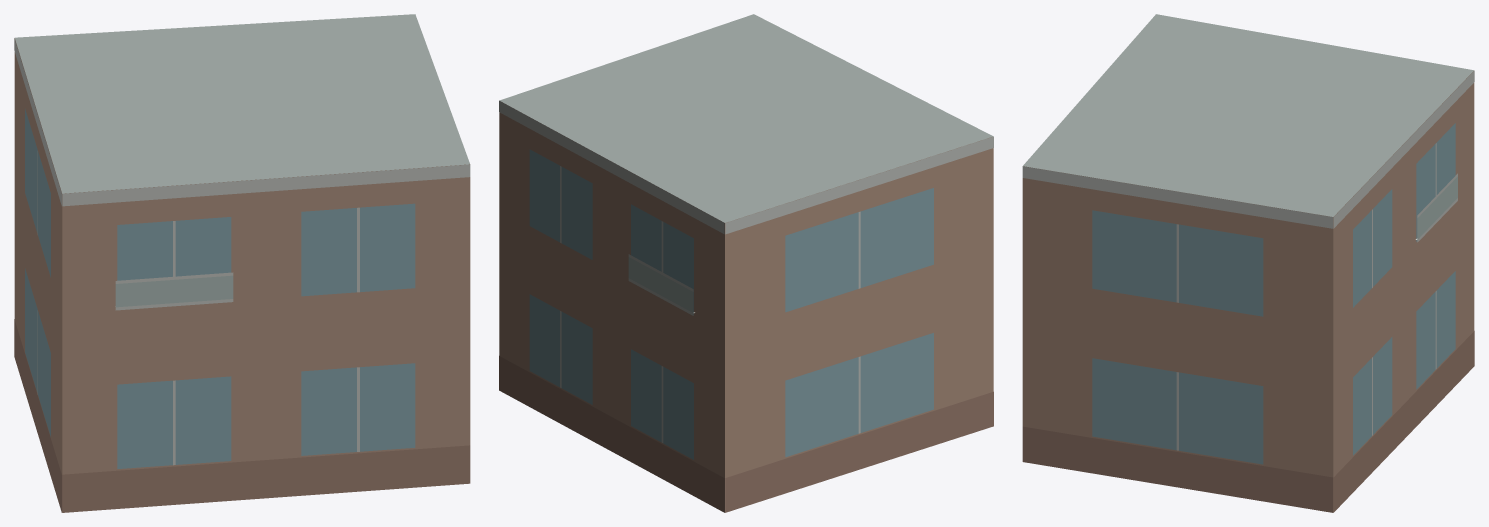
The model's file is survey-upis-32491668.glb.
3 renders of one model, left to right at view 1: azimuth 30°, elevation 25°; view 2: azimuth 150°, elevation 25°; view 3: azimuth 270°, elevation 25°, orthographic. The views are drawn at different scales.
Parts seen in each view (by area): view 1: survey-upis-32491668.tmp; view 2: survey-upis-32491668.tmp; view 3: survey-upis-32491668.tmp.
Boxes of the visible parts, bbox=[...] form: survey-upis-32491668.tmp: bbox=[14, 14, 470, 512]; survey-upis-32491668.tmp: bbox=[499, 14, 993, 512]; survey-upis-32491668.tmp: bbox=[1022, 14, 1474, 512].
Size of the model in its own units: 8.99 by 6.1 by 8.45.
